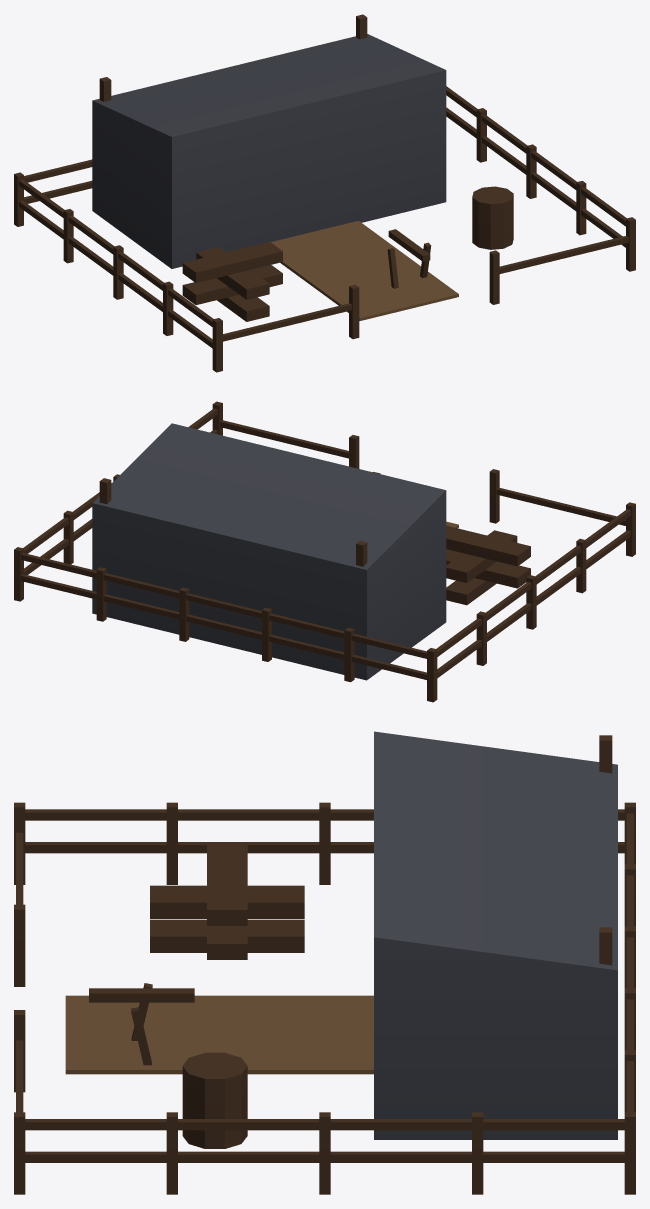
Rendered from yard_work.glb.
The picture shows the model from 3 angles, top to bottom: view 1: azimuth 30°, elevation 25°; view 2: azimuth 150°, elevation 25°; view 3: azimuth 270°, elevation 25°; orthographic projection. The views are drawn at different scales.
Visible parts, largest first — view 1: prop; view 2: prop; view 3: prop.
Boxes of the visible parts, x1=… form: prop: x1=14, y1=14, x2=635, y2=372; prop: x1=14, y1=401, x2=635, y2=702; prop: x1=14, y1=731, x2=635, y2=1194.
Size of the model in its own units: 9.14 by 2.76 by 7.64.
